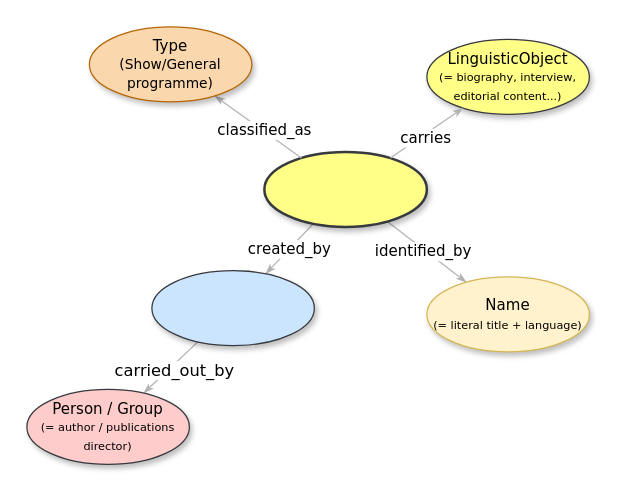
Some shapes in this 619 by 495 pixel diagram are drawn without their labels. Each missing label, with the centre of its shape:
"Creation" belongs at (234,309).
"HumanMadeObject (Programme )" belongs at (346,190).
